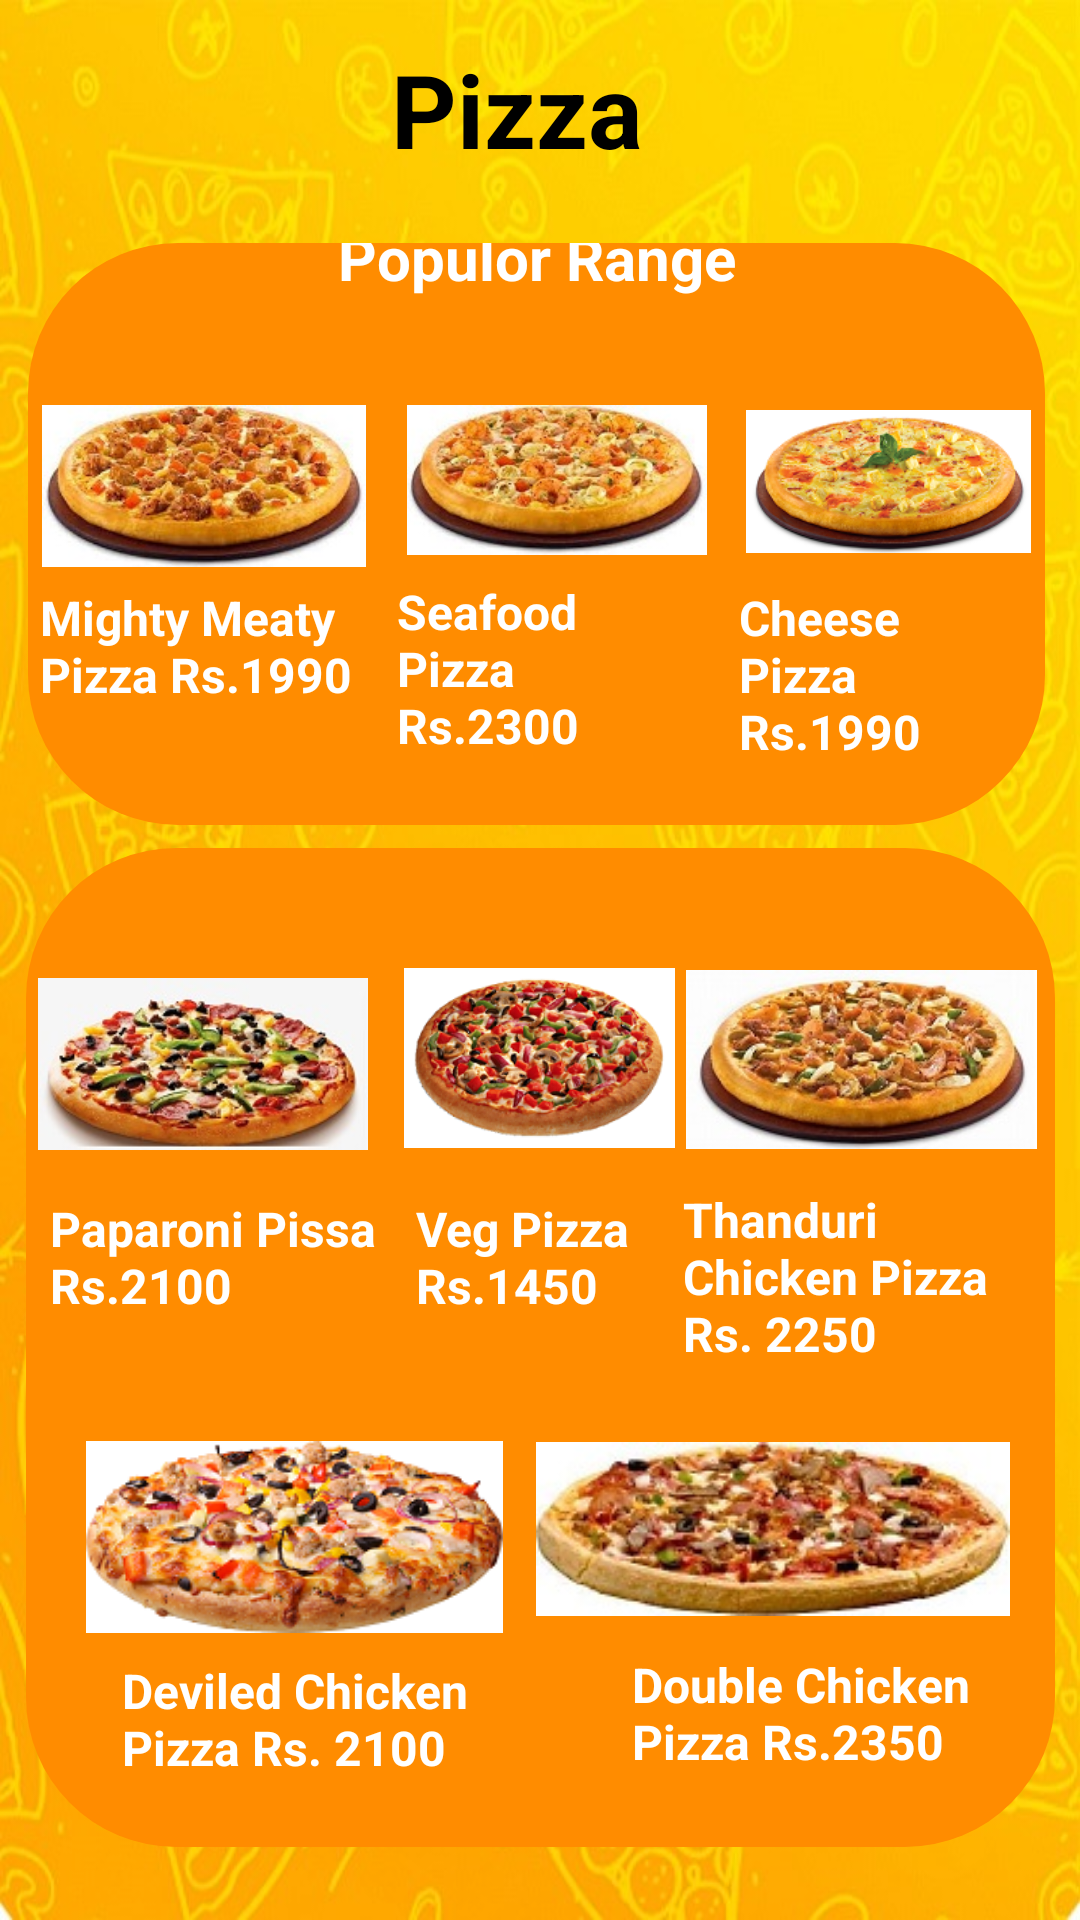

Named icons in this screenshot (1080px x 1920px) and their centers, (x=x, y=y):
cheese pinaple: (x=888, y=481)
